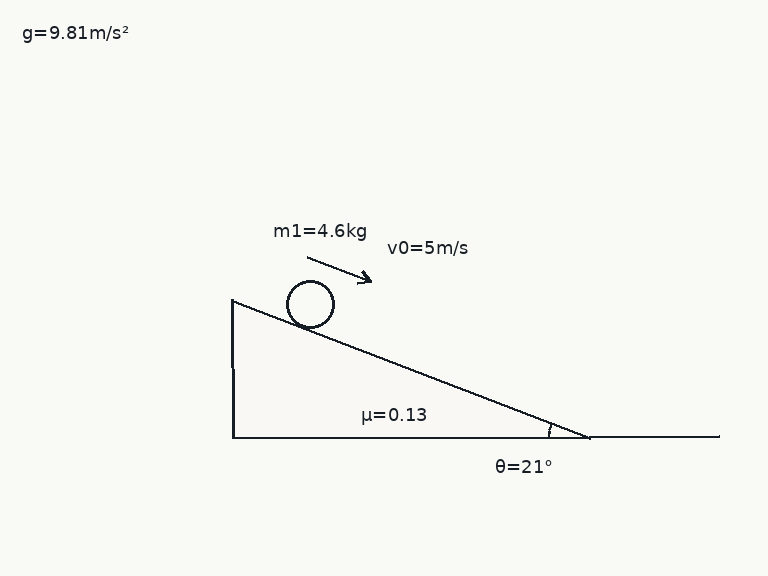ball: (284, 278, 336, 330)
ramp: (230, 298, 591, 439)
